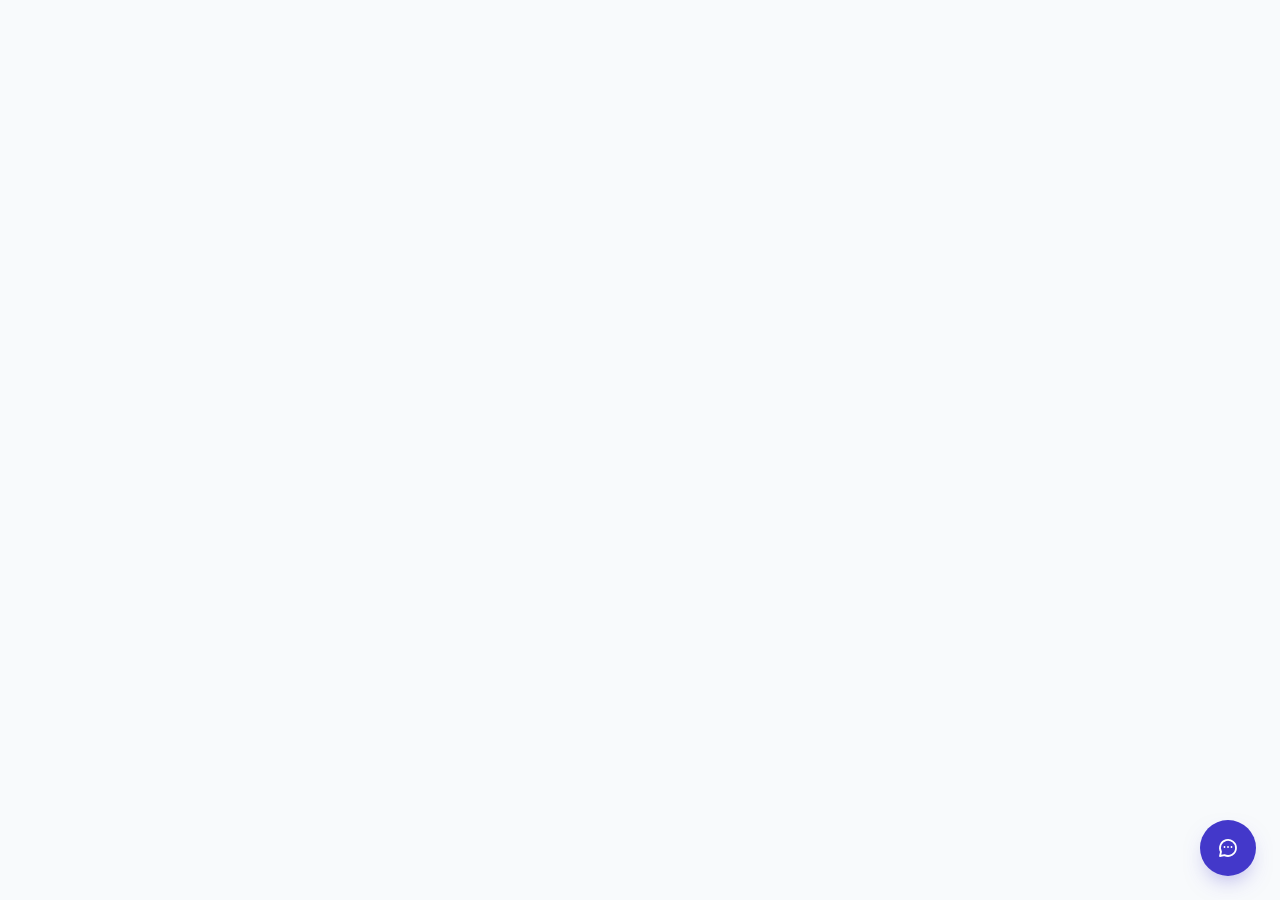
Test: HTTP 504 timeout shows a clear message
The width and height of the screenshot is (1280, 900).
Click the button named "Ask PortfolioAI about Irfan's work" at (1228, 848), box [1200, 820, 1256, 876]
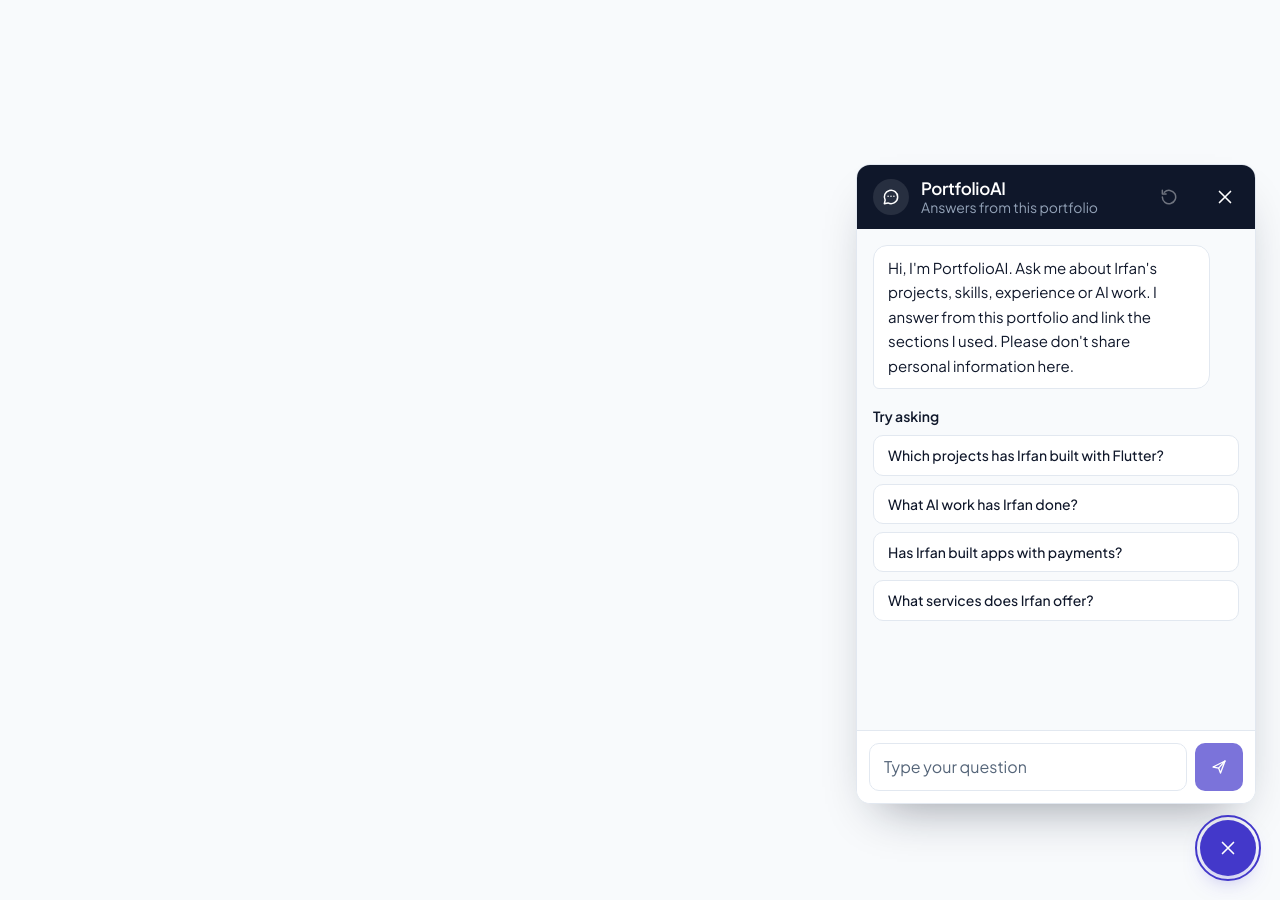
Type "Question" into the text box labelled "your question" at (1028, 767), box [869, 743, 1187, 791]
Then press Enter
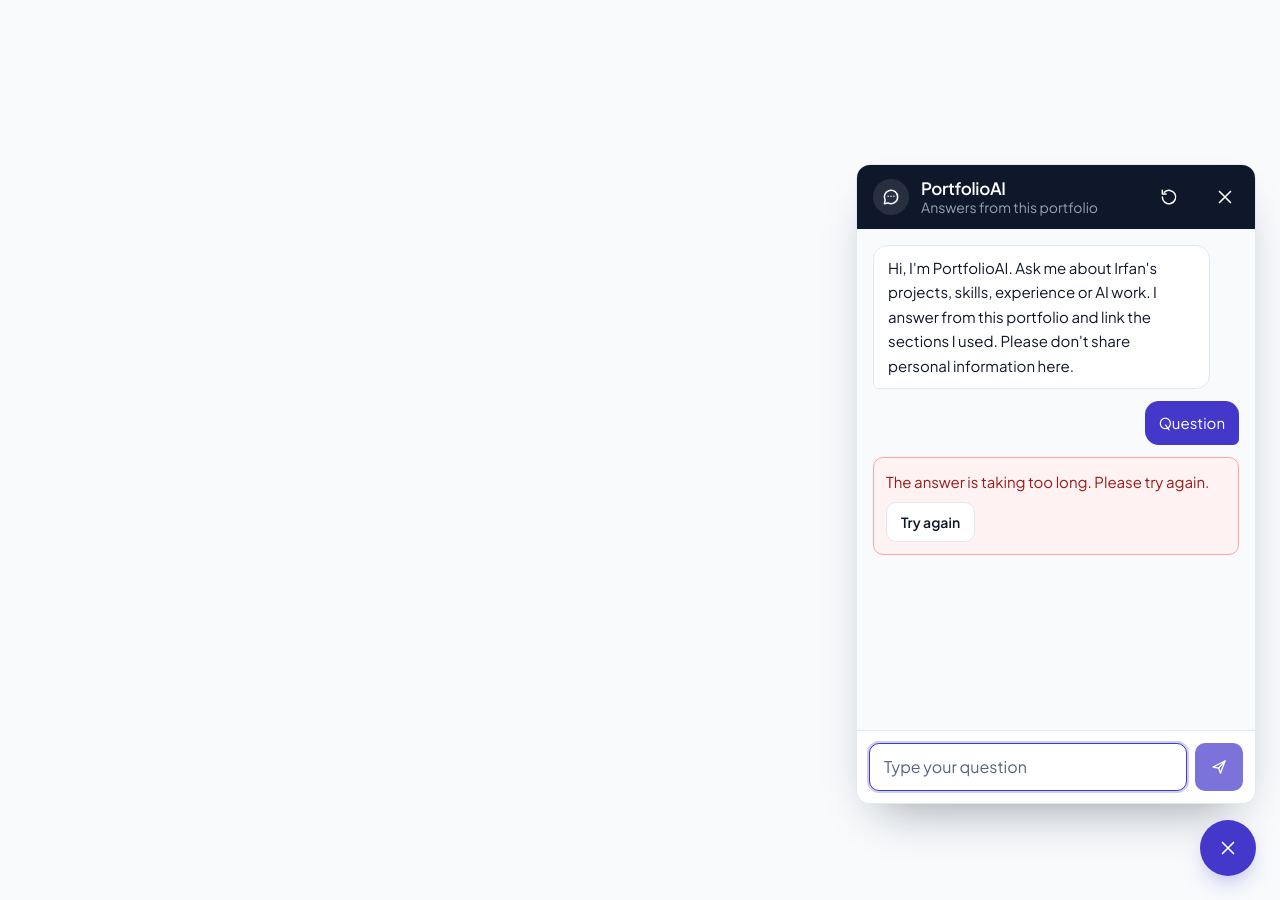
expect the text "The answer is taking too long. Please try again." is shown: met, box [886, 470, 1226, 494]
